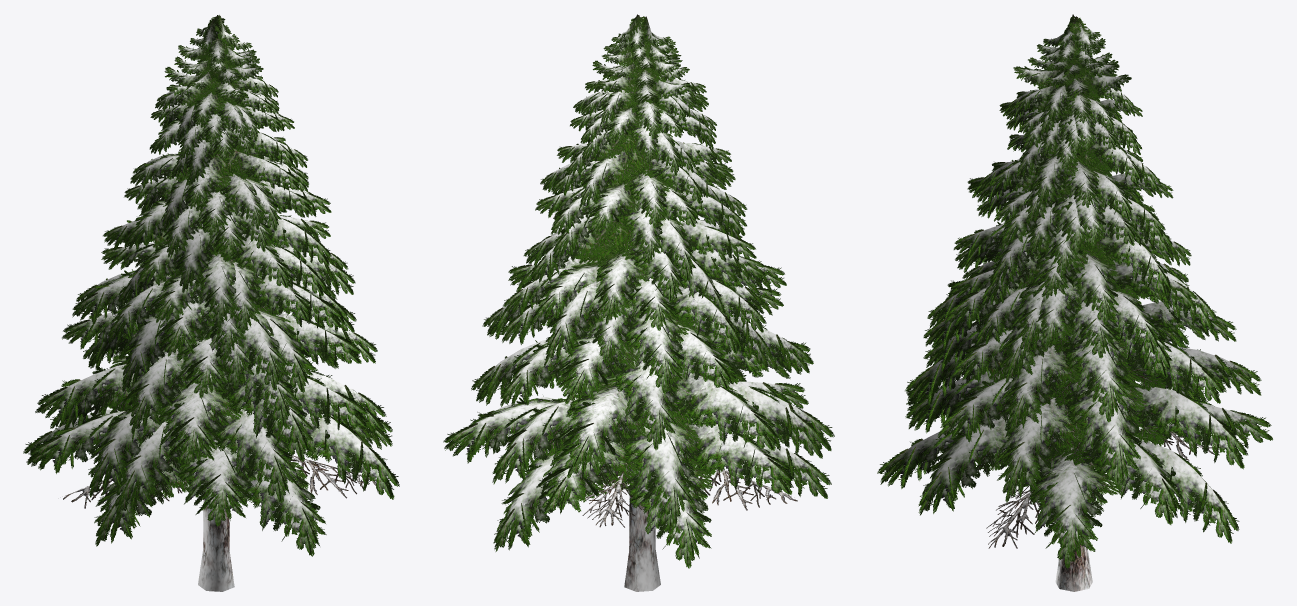
The model's file is Pine Tree.002.fbx.
The picture shows the model from 3 angles, left to right: view 1: azimuth 30°, elevation 25°; view 2: azimuth 150°, elevation 25°; view 3: azimuth 270°, elevation 25°; orthographic projection.
Visible parts, largest first — view 1: Pine Tree.002 Leaves.002, Pine Tree.002 Trunk.002; view 2: Pine Tree.002 Leaves.002, Pine Tree.002 Trunk.002; view 3: Pine Tree.002 Leaves.002, Pine Tree.002 Trunk.002.
Part boxes in pixels (left/top/right/bottom): Pine Tree.002 Leaves.002: left=23, top=15, right=399, bottom=556; Pine Tree.002 Trunk.002: left=198, top=32, right=234, bottom=591; Pine Tree.002 Leaves.002: left=443, top=14, right=834, bottom=568; Pine Tree.002 Trunk.002: left=624, top=27, right=660, bottom=591; Pine Tree.002 Leaves.002: left=877, top=14, right=1272, bottom=569; Pine Tree.002 Trunk.002: left=1055, top=544, right=1092, bottom=591.
Size of the model in its own units: 274 by 415 by 272.
